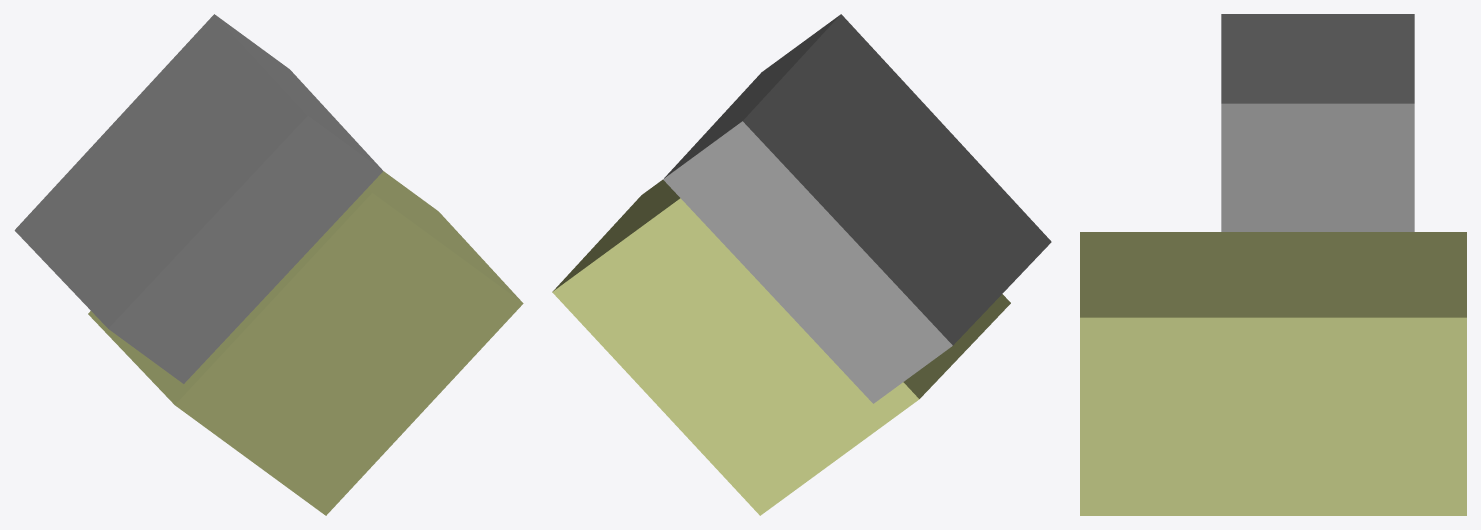
The picture shows the model from 3 angles, left to right: view 1: azimuth 30°, elevation 25°; view 2: azimuth 150°, elevation 25°; view 3: azimuth 270°, elevation 25°; orthographic projection. The views are drawn at different scales.
Parts seen in each view (by area): view 1: 0_1_2_0_3_1_3_3_3_2_2; view 2: 0_1_2_0_3_1_3_3_3_2_2; view 3: 0_1_2_0_3_1_3_3_3_2_2.
Boxes of the visible parts, x1,y1,x2,y2 form: 0_1_2_0_3_1_3_3_3_2_2: [14, 14, 523, 515]; 0_1_2_0_3_1_3_3_3_2_2: [552, 14, 1051, 515]; 0_1_2_0_3_1_3_3_3_2_2: [1080, 14, 1466, 515].
Size of the model in its own units: 8.67 by 8.79 by 6.
